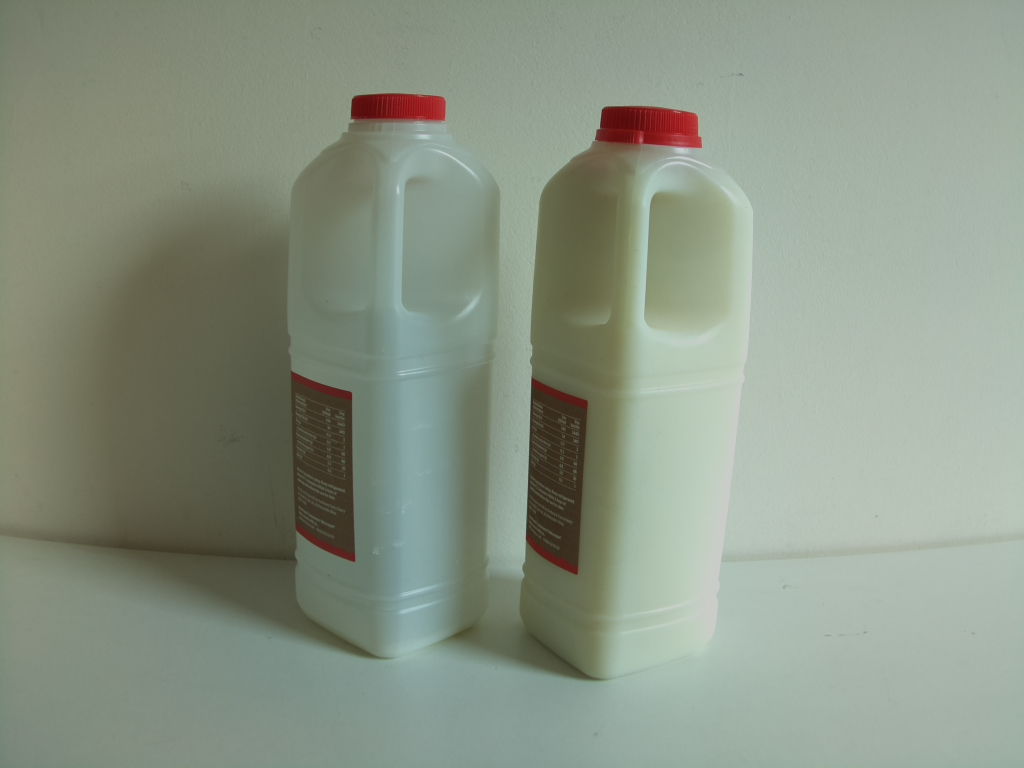milk: (519, 103, 756, 682), (277, 91, 508, 659)
